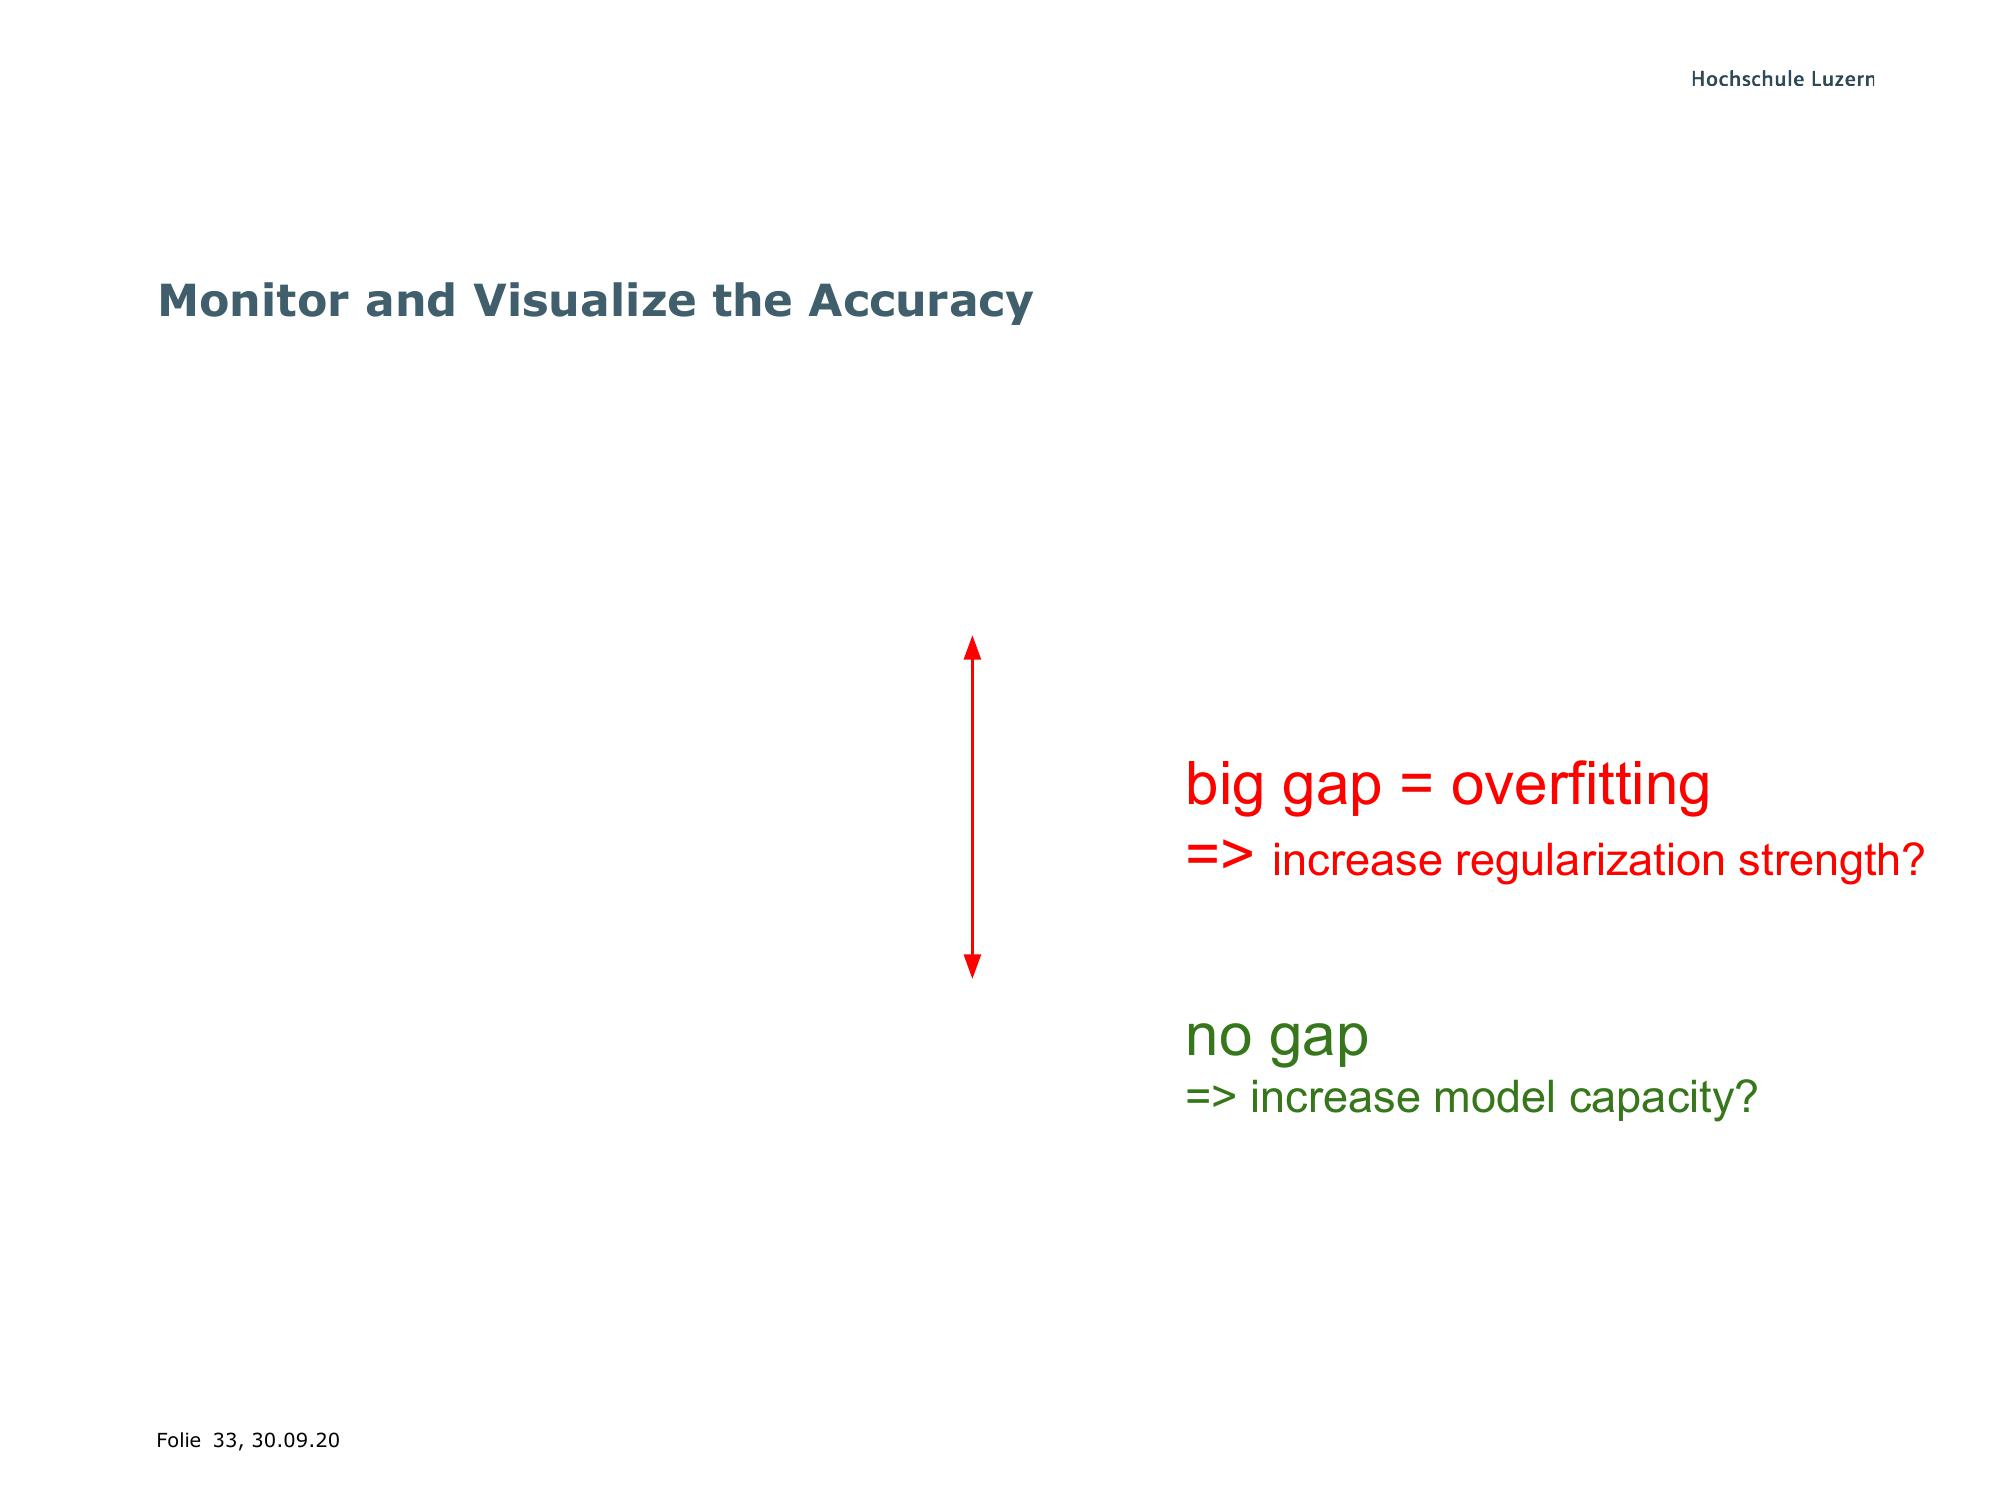Title: (112, 254, 1057, 334)
